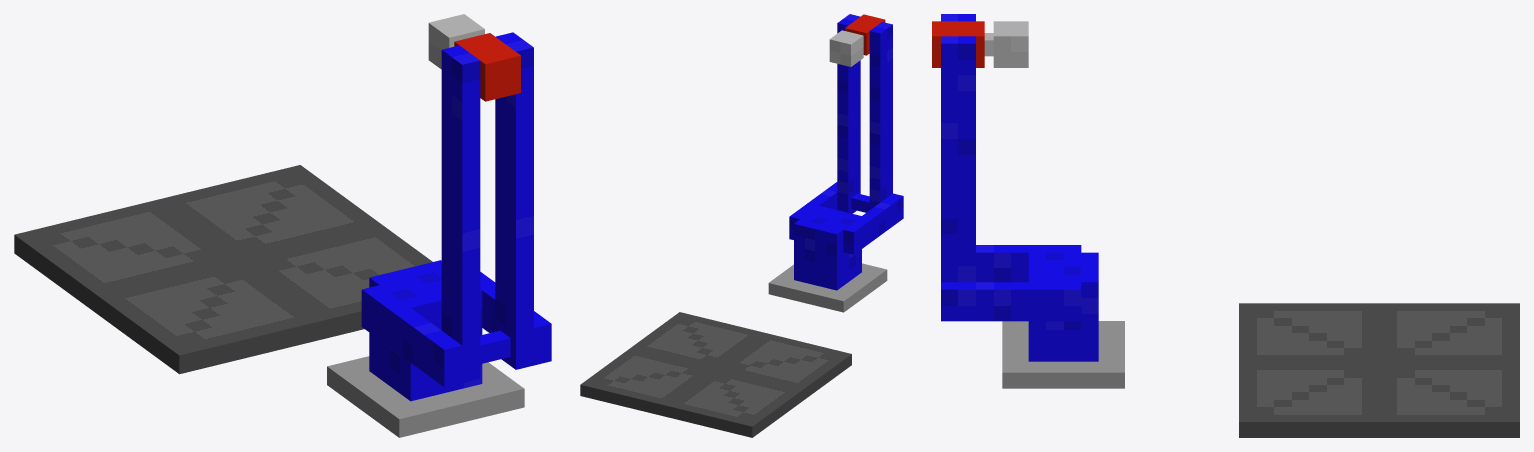
The model's file is assembly_iounit_import.obj.
3 renders of one model, left to right at view 1: azimuth 30°, elevation 25°; view 2: azimuth 150°, elevation 25°; view 3: azimuth 270°, elevation 25°, orthographic. The views are drawn at different scales.
Visible parts, largest first — view 1: Base, ArmMiddle1, ArmMiddle2, BaseTurn, BaseTurn2, ArmBase2, ClawBase, ArmBase1, SupportMiddle, ClawTurn, Claw2; view 2: Base, BaseTurn2, ArmMiddle1, ArmMiddle2, BaseTurn, ArmBase2, ArmBase1, ClawBase, Claw2, Claw1; view 3: Base, ArmMiddle2, BaseTurn2, ArmBase1, BaseTurn, ArmBase2, ClawBase, ClawTurn, Claw1.
Boxes of the visible parts, x1,y1,x2,y2 form: Base: [14, 165, 432, 374]; ArmMiddle1: [441, 45, 480, 382]; ArmMiddle2: [495, 32, 533, 369]; BaseTurn: [327, 356, 524, 437]; BaseTurn2: [369, 260, 482, 401]; ArmBase2: [361, 285, 462, 387]; ClawBase: [454, 33, 520, 101]; ArmBase1: [480, 272, 551, 365]; SupportMiddle: [480, 330, 510, 363]; ClawTurn: [439, 21, 484, 69]; Claw2: [428, 18, 456, 67]; Base: [580, 312, 851, 437]; BaseTurn2: [794, 205, 861, 290]; ArmMiddle1: [869, 22, 892, 209]; ArmMiddle2: [837, 14, 860, 213]; BaseTurn: [768, 263, 887, 312]; ArmBase2: [843, 193, 903, 254]; ArmBase1: [789, 182, 837, 239]; ClawBase: [845, 14, 885, 55]; Claw2: [840, 37, 857, 66]; Claw1: [829, 35, 845, 64]; Base: [1239, 303, 1519, 437]; ArmMiddle2: [941, 36, 975, 282]; BaseTurn2: [1028, 252, 1098, 361]; ArmBase1: [941, 282, 1081, 321]; BaseTurn: [1002, 321, 1124, 388]; ArmBase2: [976, 245, 1081, 282]; ClawBase: [932, 21, 984, 67]; ClawTurn: [993, 21, 1010, 67]; Claw1: [1011, 28, 1028, 67].
Bounding box in the file's own units: 1 × 1.38 × 2.09.
